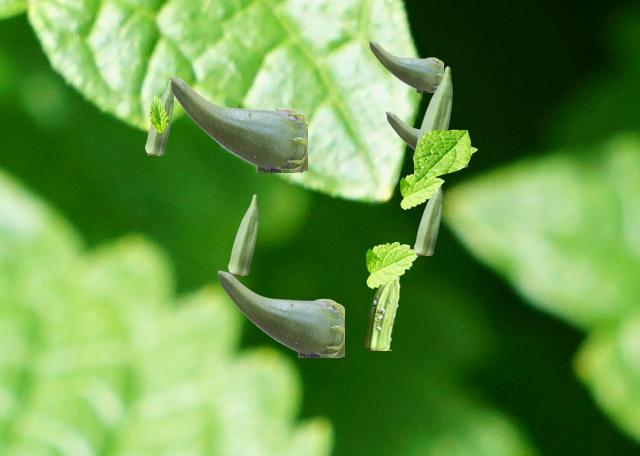okra: (168, 76, 306, 171), (217, 270, 343, 356), (385, 111, 466, 166), (368, 40, 442, 91), (413, 66, 451, 162), (365, 277, 400, 349), (228, 194, 257, 274), (145, 79, 172, 154), (414, 186, 441, 254)
